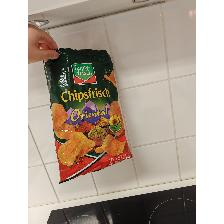Chips: (40, 46, 136, 186)
